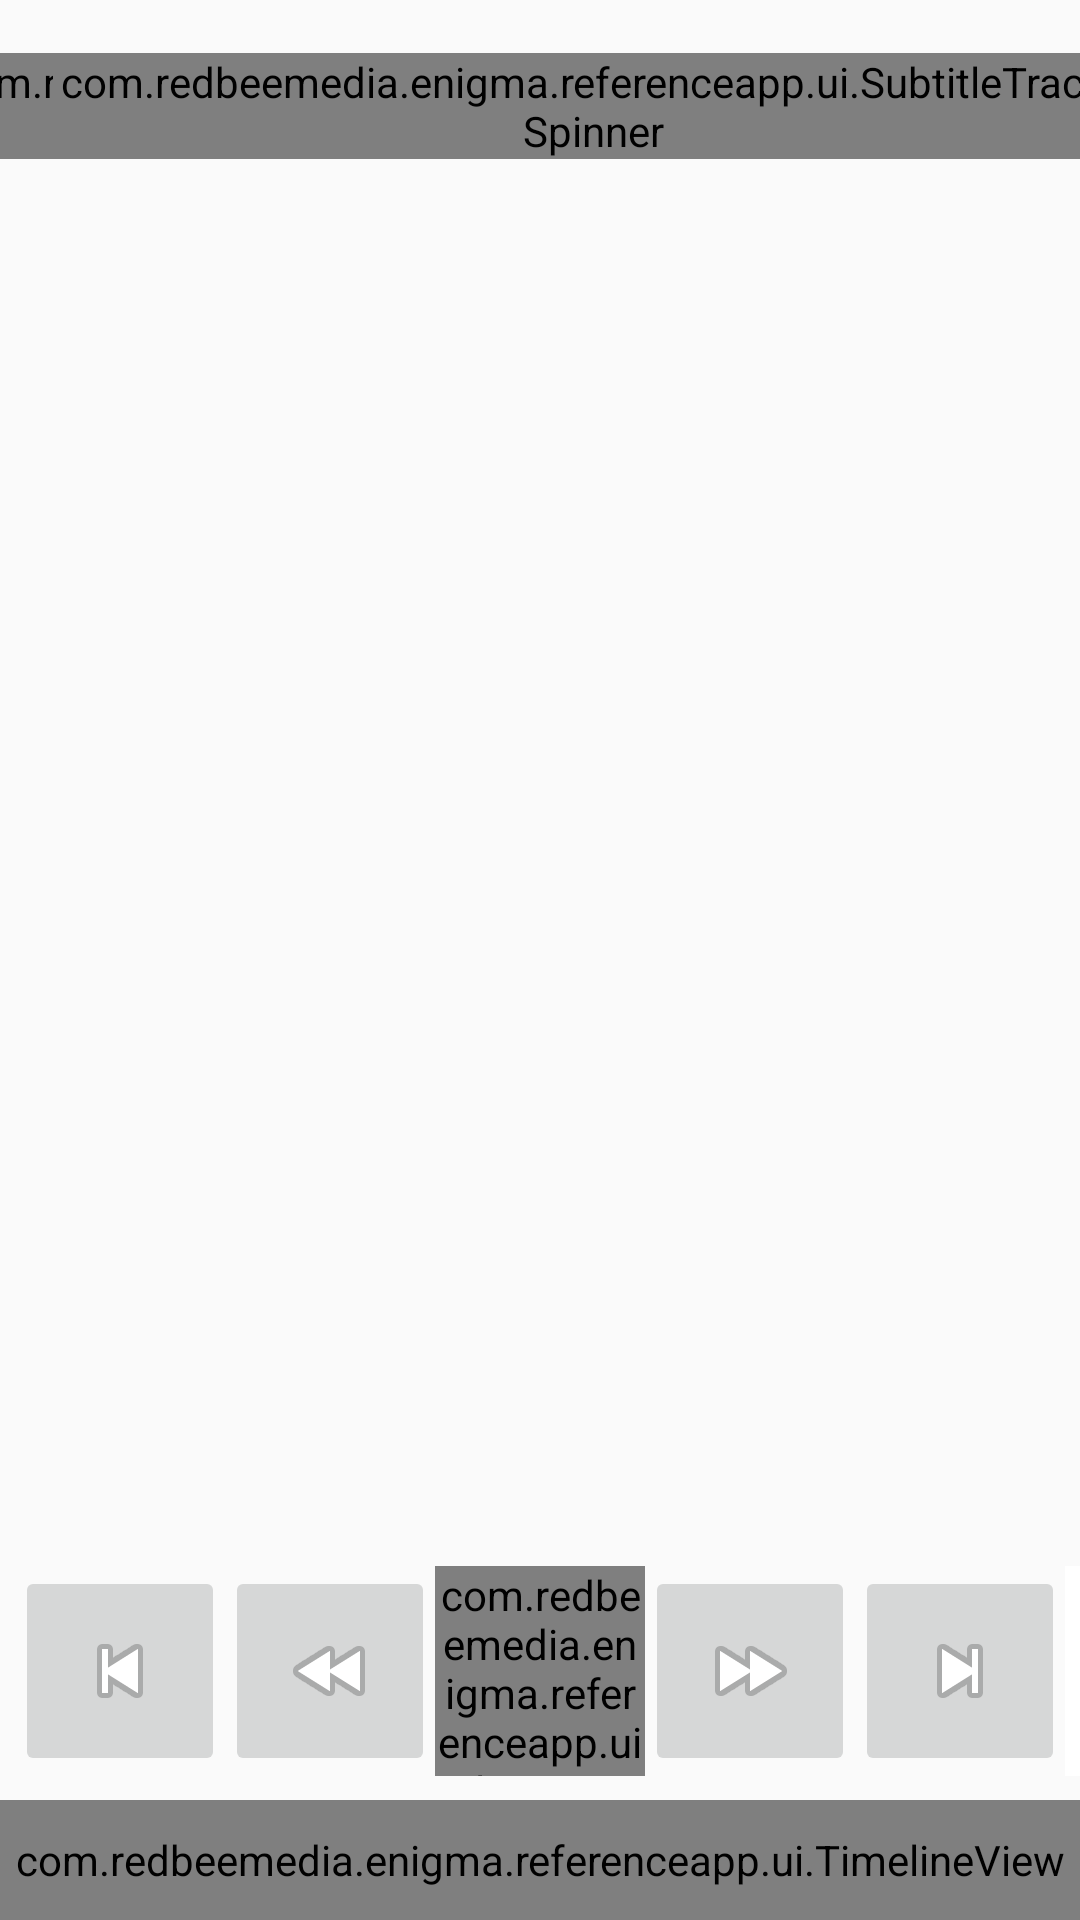

Named icons in this screenshot (1080 × 1920) and their bounding boxes, (x1, y1, x2, y2):
next: (867, 1584, 1053, 1758)
previous: (27, 1584, 213, 1758)
rew: (237, 1584, 423, 1758)
